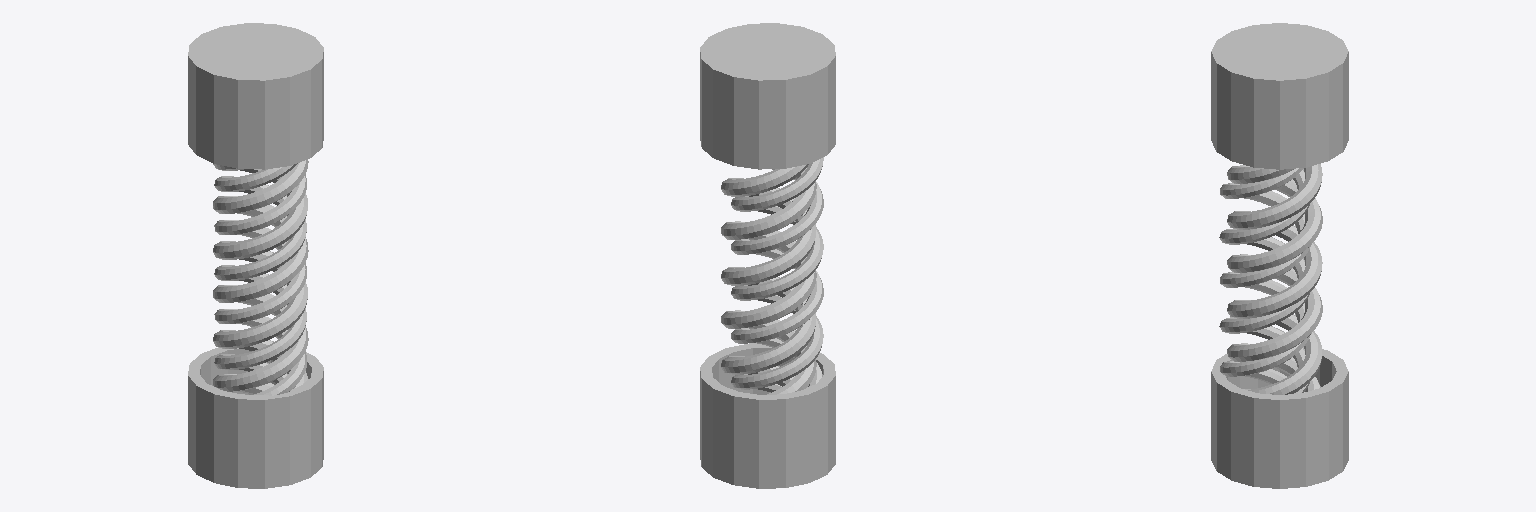
Rendered from tubo1.obj.
The picture shows the model from 3 angles: view 1: azimuth 30°, elevation 25°; view 2: azimuth 150°, elevation 25°; view 3: azimuth 270°, elevation 25°; orthographic projection.
Visible parts, largest first — view 1: tubo4 tubo3:Cap, tubo4 tubo3:Spiral_Glass, tubo4 tubo3:Cap_High_Poly, tubo3:Spiral tubo4; view 2: tubo4 tubo3:Cap, tubo4 tubo3:Spiral_Glass, tubo3:Spiral tubo4, tubo4 tubo3:Cap_High_Poly; view 3: tubo4 tubo3:Cap, tubo4 tubo3:Spiral_Glass, tubo4 tubo3:Cap_High_Poly, tubo3:Spiral tubo4.
Boxes of the visible parts, x1,y1,x2,y2 form: tubo4 tubo3:Cap: [188, 23, 323, 488]; tubo4 tubo3:Spiral_Glass: [213, 160, 308, 394]; tubo4 tubo3:Cap_High_Poly: [188, 23, 323, 488]; tubo3:Spiral tubo4: [214, 163, 306, 395]; tubo4 tubo3:Cap: [700, 23, 835, 488]; tubo4 tubo3:Spiral_Glass: [721, 164, 816, 394]; tubo3:Spiral tubo4: [731, 157, 823, 392]; tubo4 tubo3:Cap_High_Poly: [700, 23, 835, 488]; tubo4 tubo3:Cap: [1211, 23, 1348, 488]; tubo4 tubo3:Spiral_Glass: [1227, 164, 1322, 394]; tubo4 tubo3:Cap_High_Poly: [1211, 23, 1348, 488]; tubo3:Spiral tubo4: [1219, 168, 1310, 393].
Bounding box in the file's own units: 0.0888 × 0.291 × 0.0888.